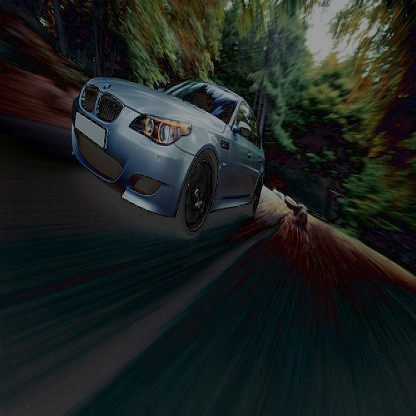Vehicle: (68, 72, 269, 236)
